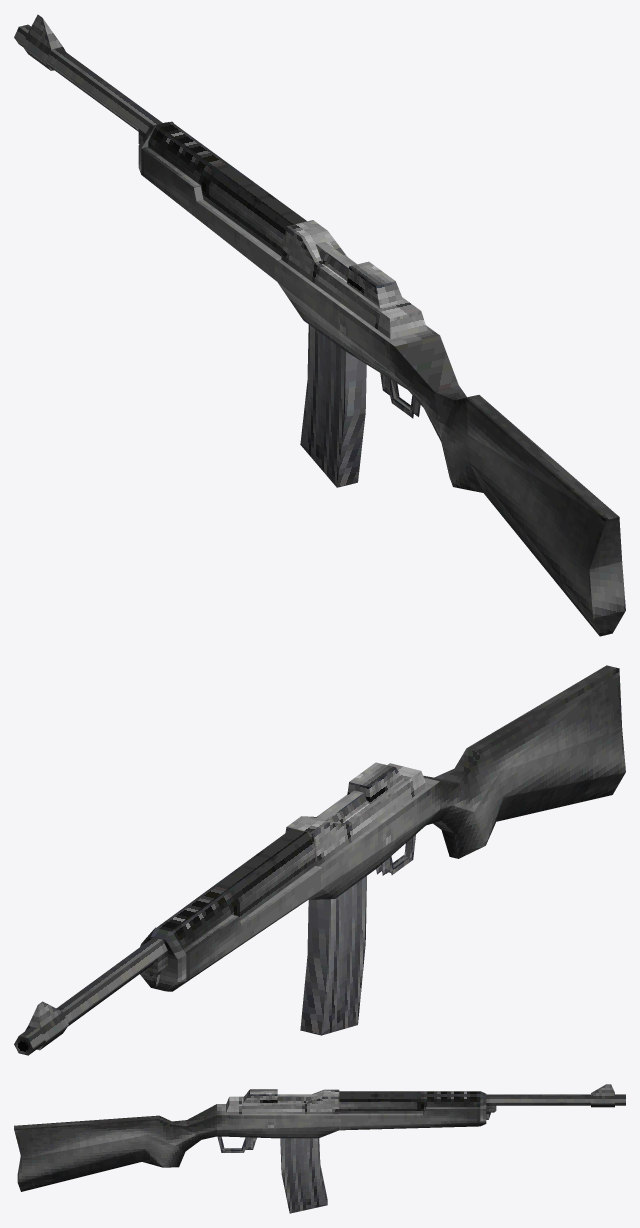
Rendered from recovered_gun_m14_gun.glb.
The picture shows the model from 3 angles, top to bottom: view 1: azimuth 30°, elevation 25°; view 2: azimuth 150°, elevation 25°; view 3: azimuth 270°, elevation 25°; orthographic projection. The views are drawn at different scales.
Parts seen in each view (by area): view 1: Gun_b878f736cd37; view 2: Gun_b878f736cd37; view 3: Gun_b878f736cd37.
Boxes of the visible parts, <box> form: Gun_b878f736cd37: <box>14,14,625,636</box>; Gun_b878f736cd37: <box>19,665,625,1055</box>; Gun_b878f736cd37: <box>14,1084,625,1213</box>.
Bounding box in the file's own units: 0.0427 × 0.2198 × 0.9619.
Materials: 2 (2 with a texture image).
